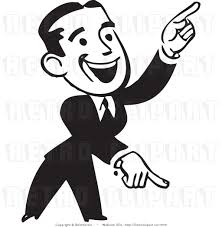hand: (107, 144, 177, 200), (146, 1, 210, 57)
